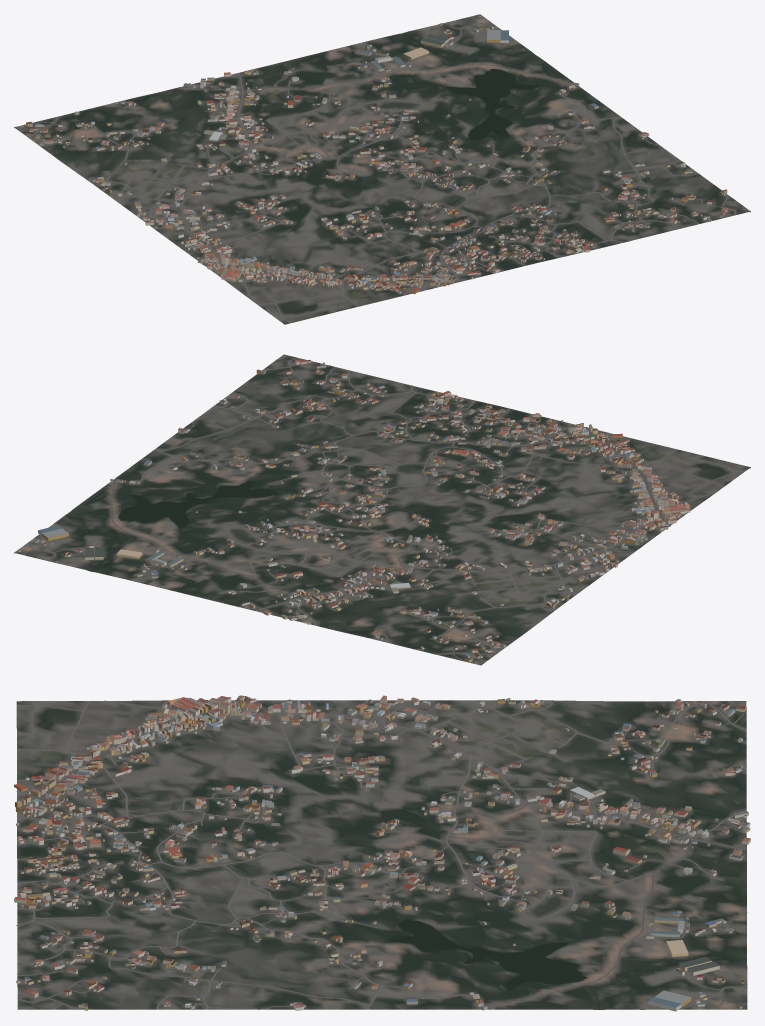
3 views of the same model, one above another, from view 1: azimuth 30°, elevation 25°; view 2: azimuth 150°, elevation 25°; view 3: azimuth 270°, elevation 25° (orthographic). The views are drawn at different scales.
Parts seen in each view (by area): view 1: ground, buildings, roads, water; view 2: ground, buildings, roads, water; view 3: ground, buildings, roads, water.
Boxes of the visible parts, left/top/right/bottom form: ground: left=14, top=14, right=750, bottom=324; buildings: left=26, top=14, right=727, bottom=293; roads: left=16, top=21, right=737, bottom=323; water: left=403, top=32, right=539, bottom=139; ground: left=14, top=354, right=750, bottom=665; buildings: left=17, top=360, right=690, bottom=662; roads: left=28, top=358, right=744, bottom=664; water: left=68, top=481, right=276, bottom=571; ground: left=16, top=700, right=747, bottom=1009; buildings: left=14, top=695, right=750, bottom=1011; roads: left=15, top=699, right=747, bottom=1009; water: left=390, top=919, right=746, bottom=1009.
Size of the model in its own units: 1411 by 27.23 by 1416.
